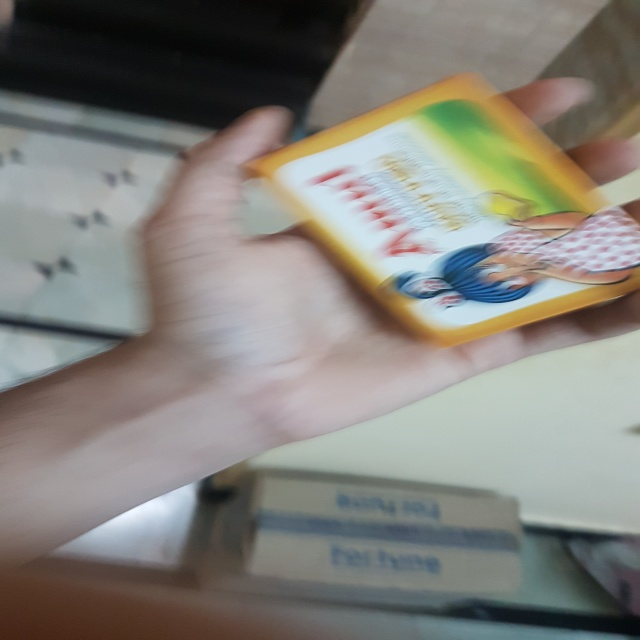butter: (242, 72, 640, 348)
